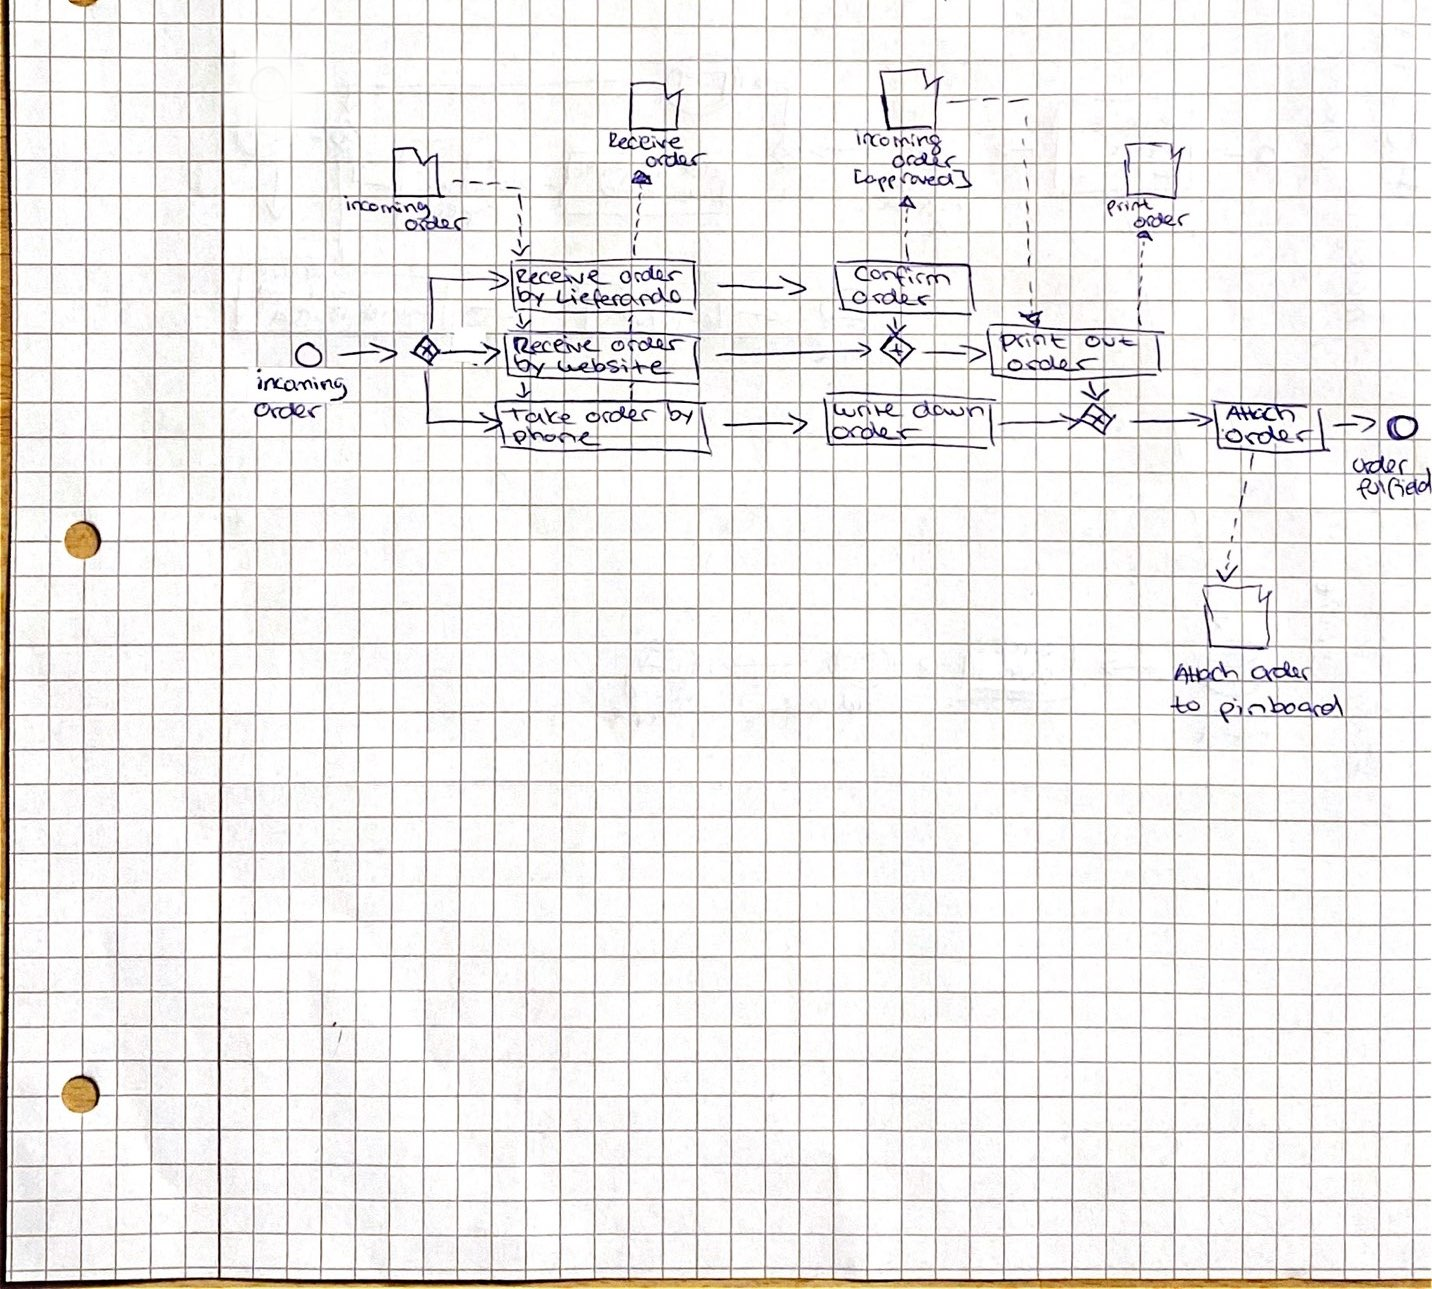Attach: (1169, 659, 1242, 686), (1223, 402, 1301, 423)
Lieferando: (554, 287, 687, 310)
Order: (1349, 455, 1415, 478)
Print: (997, 330, 1070, 353), (1104, 195, 1155, 216)
Receive: (513, 265, 610, 290), (510, 332, 602, 357), (603, 129, 686, 151)
[approved]: (850, 167, 975, 193)
by: (511, 353, 550, 379), (663, 401, 697, 427), (513, 285, 547, 309)
confirm: (851, 264, 952, 291)
down: (909, 396, 992, 421)
fulfield: (1354, 473, 1431, 504)
incoming: (253, 367, 350, 402), (851, 126, 946, 151), (340, 197, 435, 219)
order: (1222, 422, 1318, 445), (829, 421, 924, 443), (1004, 352, 1099, 373), (250, 399, 323, 426), (850, 285, 934, 306), (1245, 659, 1313, 686), (607, 333, 688, 355), (583, 403, 659, 426), (616, 263, 681, 287), (402, 213, 472, 235), (890, 149, 960, 170), (1130, 210, 1191, 233), (644, 151, 705, 170)
out: (1082, 328, 1140, 355)
phone: (510, 424, 595, 448)
pinboard: (1216, 696, 1347, 727)
take: (500, 404, 575, 427)
to: (1169, 693, 1207, 717)
website: (552, 357, 676, 375)
write: (829, 397, 904, 419)
